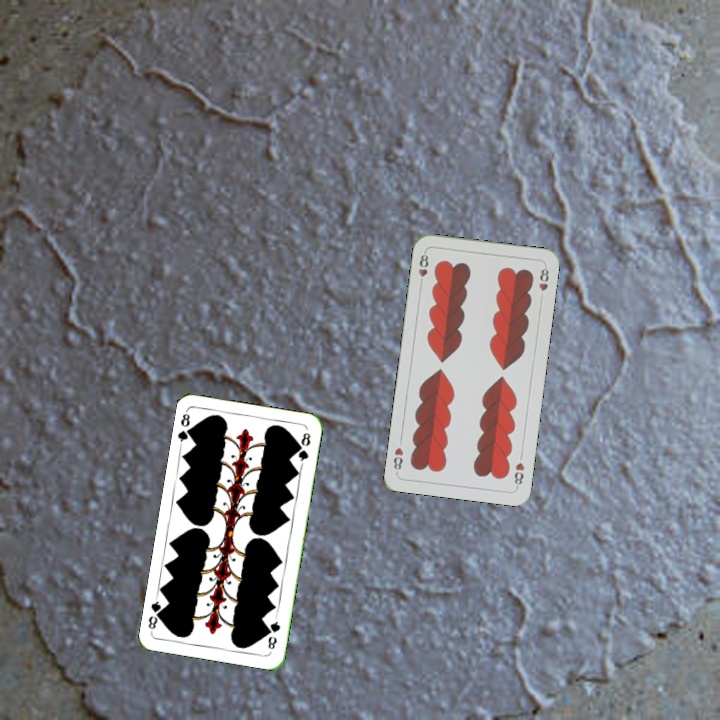G8: (174, 407, 196, 448), (264, 613, 282, 652)
H8: (414, 248, 431, 288), (510, 458, 527, 490)
